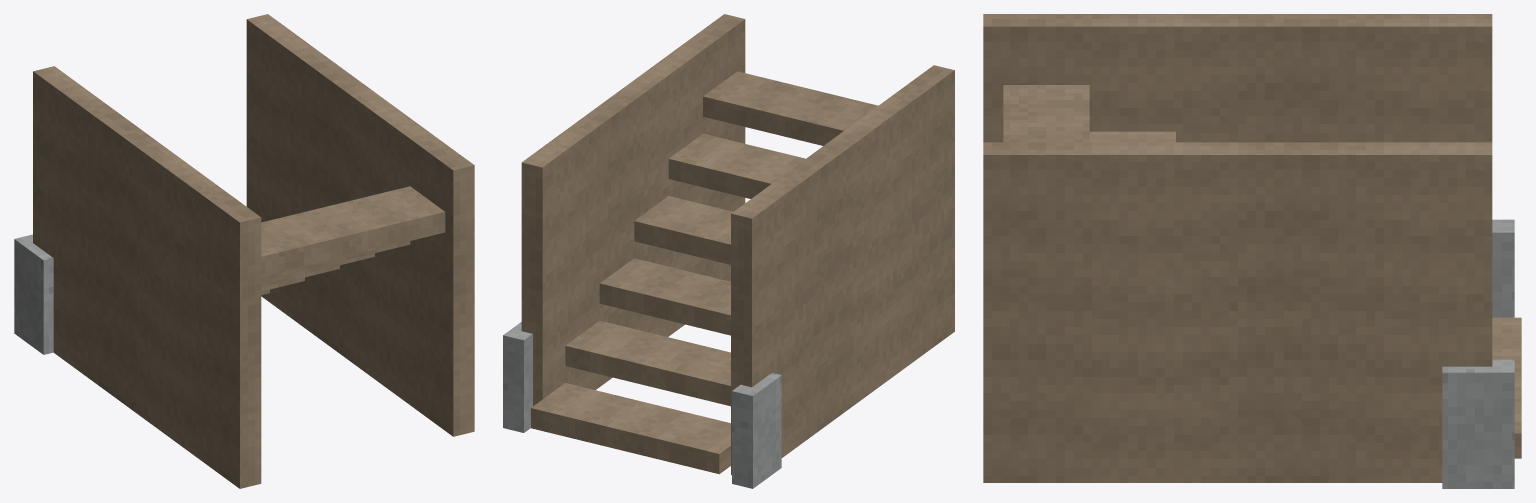
File: level_blockout_domestic_cellar_steps.glb
3 renders of one model, left to right at view 1: azimuth 30°, elevation 25°; view 2: azimuth 150°, elevation 25°; view 3: azimuth 270°, elevation 25°, orthographic. The views are drawn at different scales.
Visible parts, largest first — view 1: level_blockout_domestic_cellar_steps; view 2: level_blockout_domestic_cellar_steps; view 3: level_blockout_domestic_cellar_steps.
Part boxes in pixels (x1,y1,x2,y2): level_blockout_domestic_cellar_steps: (14,14,474,488); level_blockout_domestic_cellar_steps: (503,14,954,488); level_blockout_domestic_cellar_steps: (983,14,1521,488).
Bounding box in the file's own units: 1.55 × 1.55 × 2.31.
2 materials, 2 textured.
